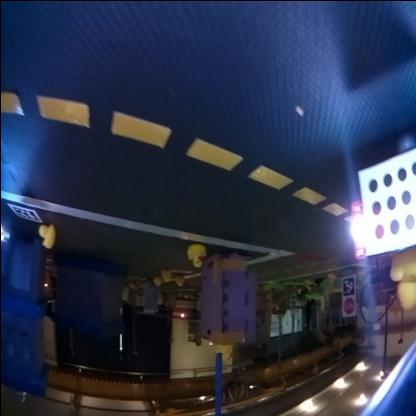Duckie: (389, 246, 412, 310), (185, 245, 205, 267), (38, 225, 54, 249), (160, 268, 168, 282), (173, 276, 182, 286), (326, 274, 334, 282)
Duckiebot: (350, 146, 414, 262)
QR code: (6, 206, 40, 222), (341, 277, 353, 294)
Stop sign: (342, 298, 353, 314)
